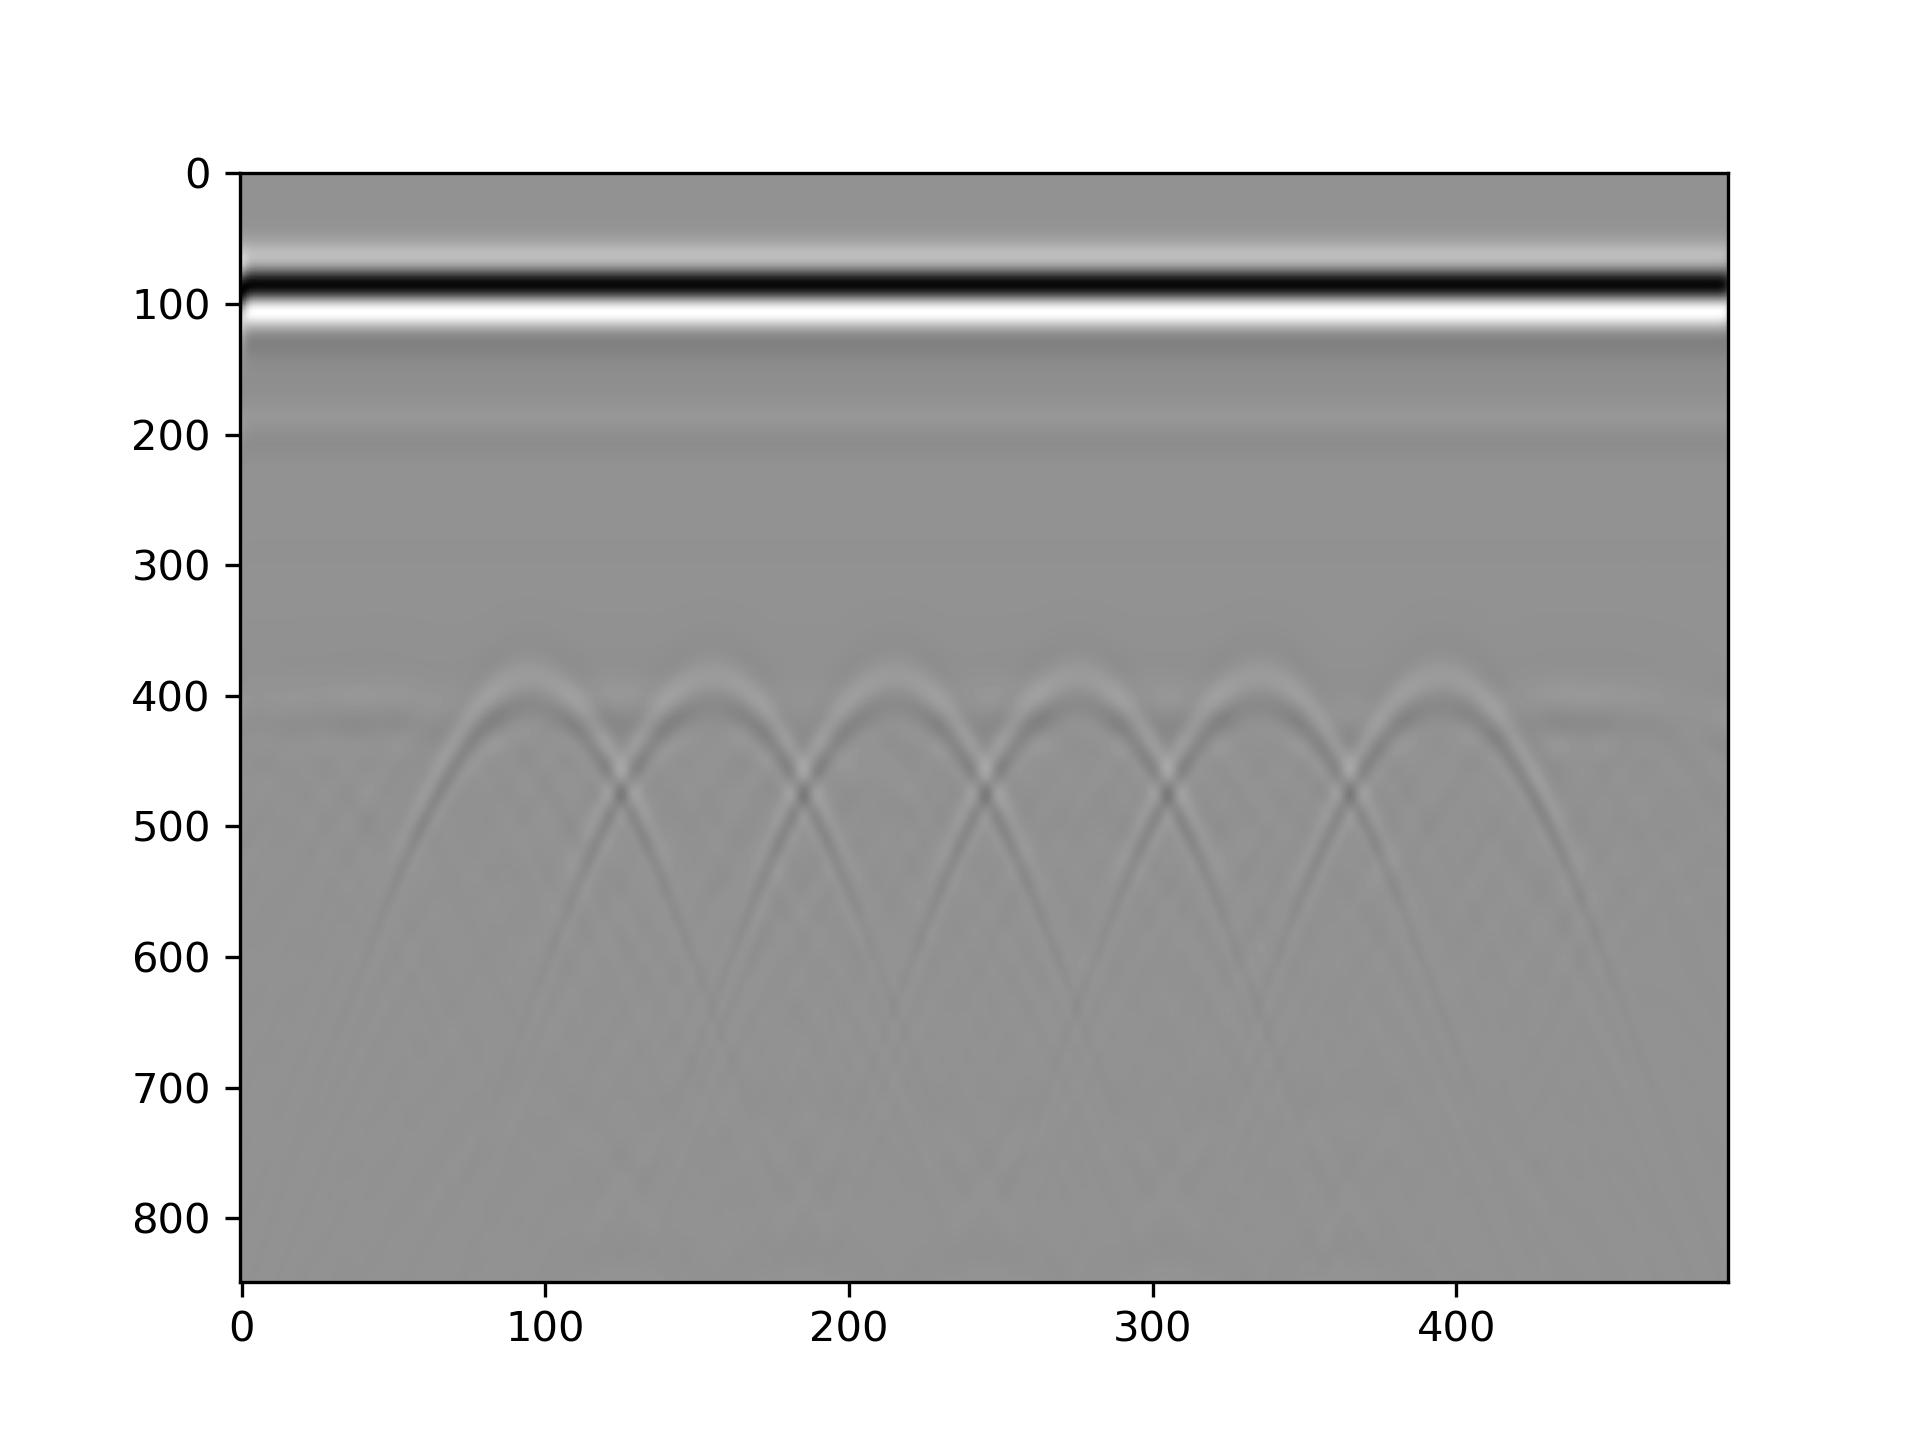钢筋: (505, 669, 555, 718), (688, 669, 738, 718), (872, 669, 922, 718), (1055, 669, 1105, 718), (1238, 669, 1288, 718), (1421, 669, 1471, 718)
